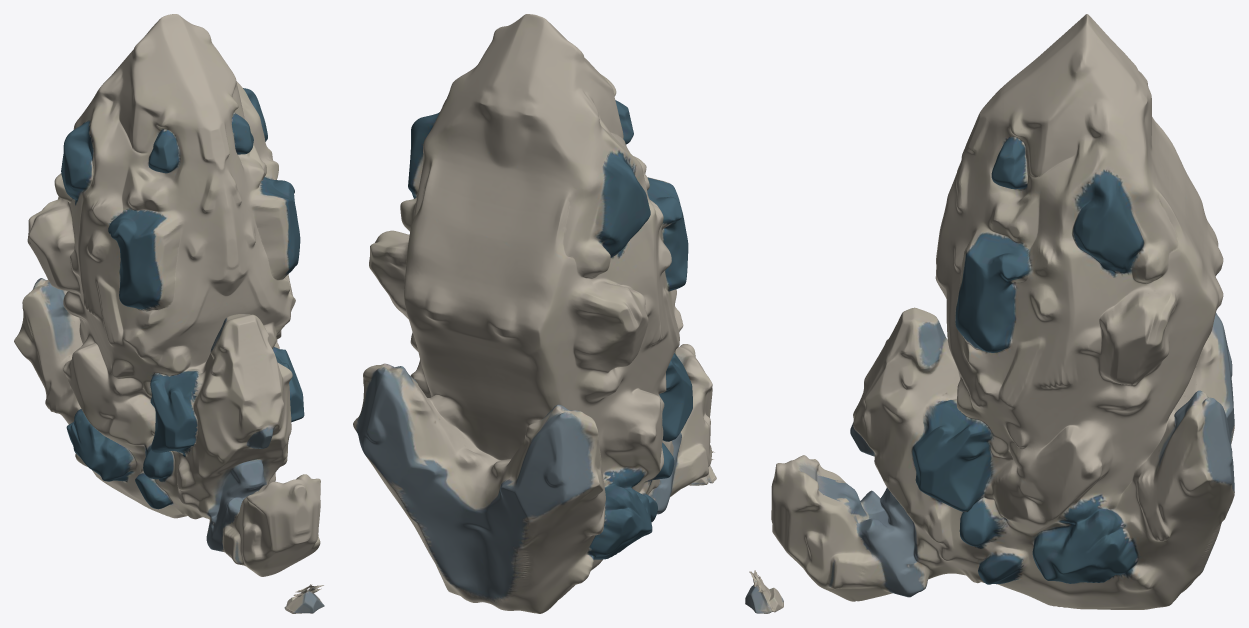
Rendered from deco_ore_01.fbx.
3 renders of one model, left to right at view 1: azimuth 30°, elevation 25°; view 2: azimuth 150°, elevation 25°; view 3: azimuth 270°, elevation 25°, orthographic. The views are drawn at different scales.
Parts seen in each view (by area): view 1: tripo_node_6b613227-0bab-4d77-bf27-22fb2a4ad018; view 2: tripo_node_6b613227-0bab-4d77-bf27-22fb2a4ad018; view 3: tripo_node_6b613227-0bab-4d77-bf27-22fb2a4ad018.
Boxes of the visible parts, x1,y1,x2,y2 form: tripo_node_6b613227-0bab-4d77-bf27-22fb2a4ad018: (14,14,324,613); tripo_node_6b613227-0bab-4d77-bf27-22fb2a4ad018: (353,14,716,613); tripo_node_6b613227-0bab-4d77-bf27-22fb2a4ad018: (745,14,1234,613).
Size of the model in its own units: 48.07 by 98.03 by 74.07.
1 material, 1 textured.
